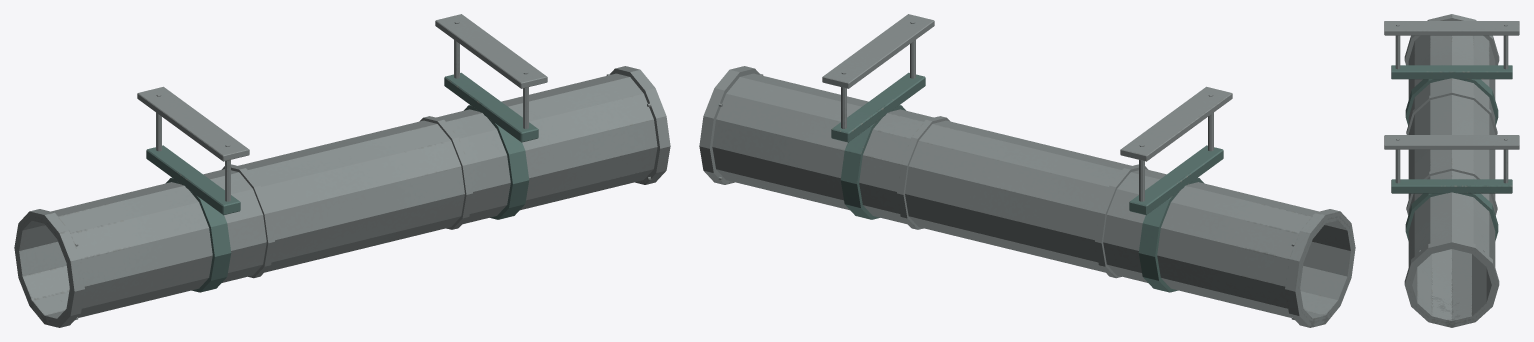
File: bunker_ventilation_duct_straight.glb
3 renders of one model, left to right at view 1: azimuth 30°, elevation 25°; view 2: azimuth 150°, elevation 25°; view 3: azimuth 270°, elevation 25°, orthographic. The views are drawn at different scales.
Visible parts, largest first — view 1: VentilationDuct; view 2: VentilationDuct; view 3: VentilationDuct.
Part boxes in pixels (<box>): VentilationDuct: <box>14,14,670,327</box>; VentilationDuct: <box>699,14,1355,327</box>; VentilationDuct: <box>1384,14,1519,327</box>.
Size of what is drawn, in the model's own units: 4 by 1.08 by 1.
Materials: 1 (1 with a texture image).
